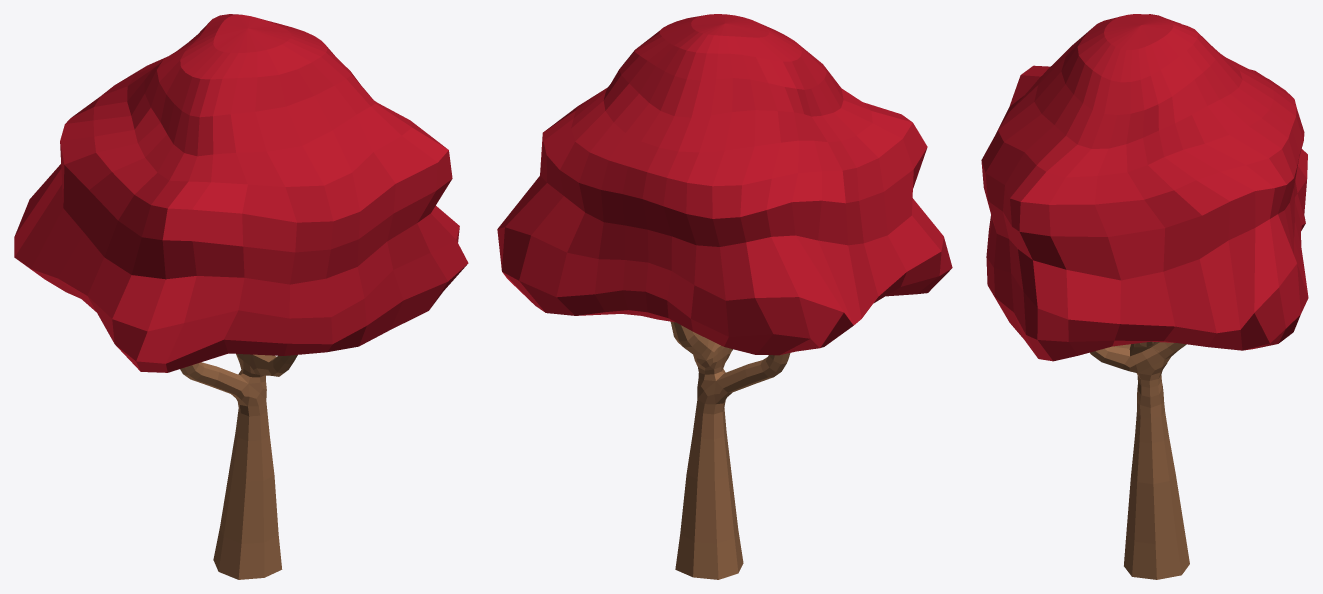
File: Tree_6.fbx
The picture shows the model from 3 angles, left to right: view 1: azimuth 30°, elevation 25°; view 2: azimuth 150°, elevation 25°; view 3: azimuth 270°, elevation 25°; orthographic projection.
Parts seen in each view (by area): view 1: Tree_6_LOD0; view 2: Tree_6_LOD0; view 3: Tree_6_LOD0.
Part boxes in pixels (bbox=[...]): Tree_6_LOD0: bbox=[14, 14, 468, 579]; Tree_6_LOD0: bbox=[497, 14, 952, 579]; Tree_6_LOD0: bbox=[981, 14, 1308, 579].
Size of what is drawn, in the model's own units: 111 by 162 by 89.05.
